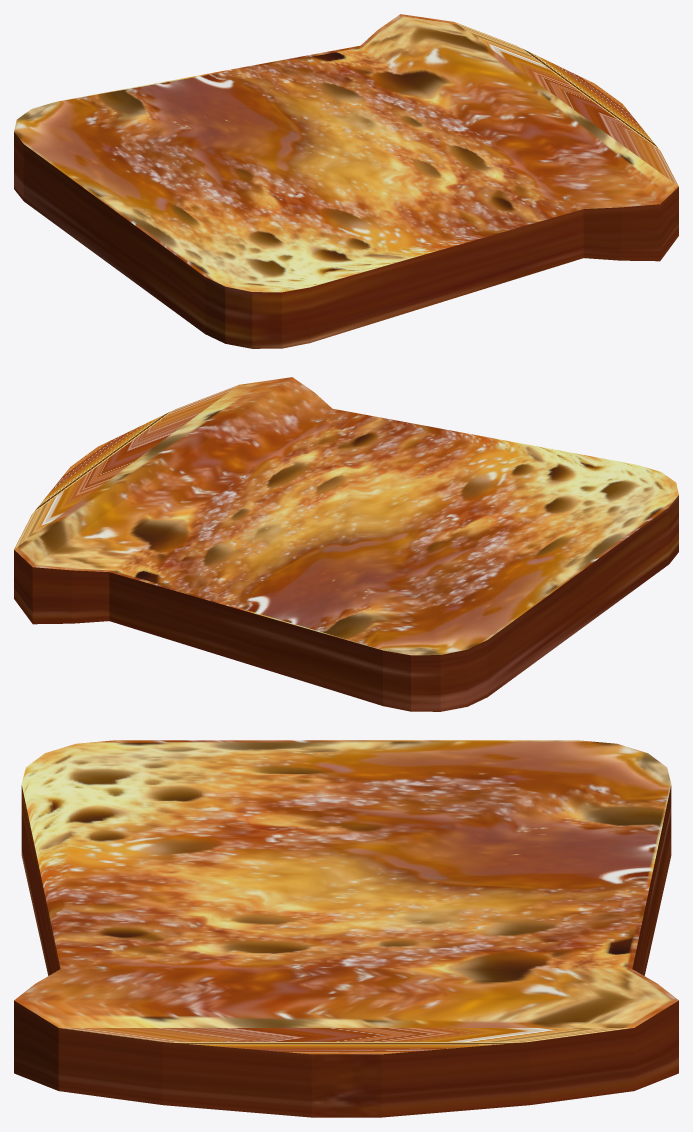
File: tostada.glb
3 renders of one model, top to bottom at view 1: azimuth 30°, elevation 25°; view 2: azimuth 150°, elevation 25°; view 3: azimuth 270°, elevation 25°, orthographic. The views are drawn at different scales.
Visible parts, largest first — view 1: Cube.001; view 2: Cube.001; view 3: Cube.001.
Boxes of the visible parts, x1,y1,x2,y2 form: Cube.001: (14, 14, 678, 348); Cube.001: (14, 377, 678, 711); Cube.001: (14, 740, 678, 1117).
Bounding box in the file's own units: 2.19 × 0.2422 × 1.99.
Materials: 4 (4 with a texture image).
